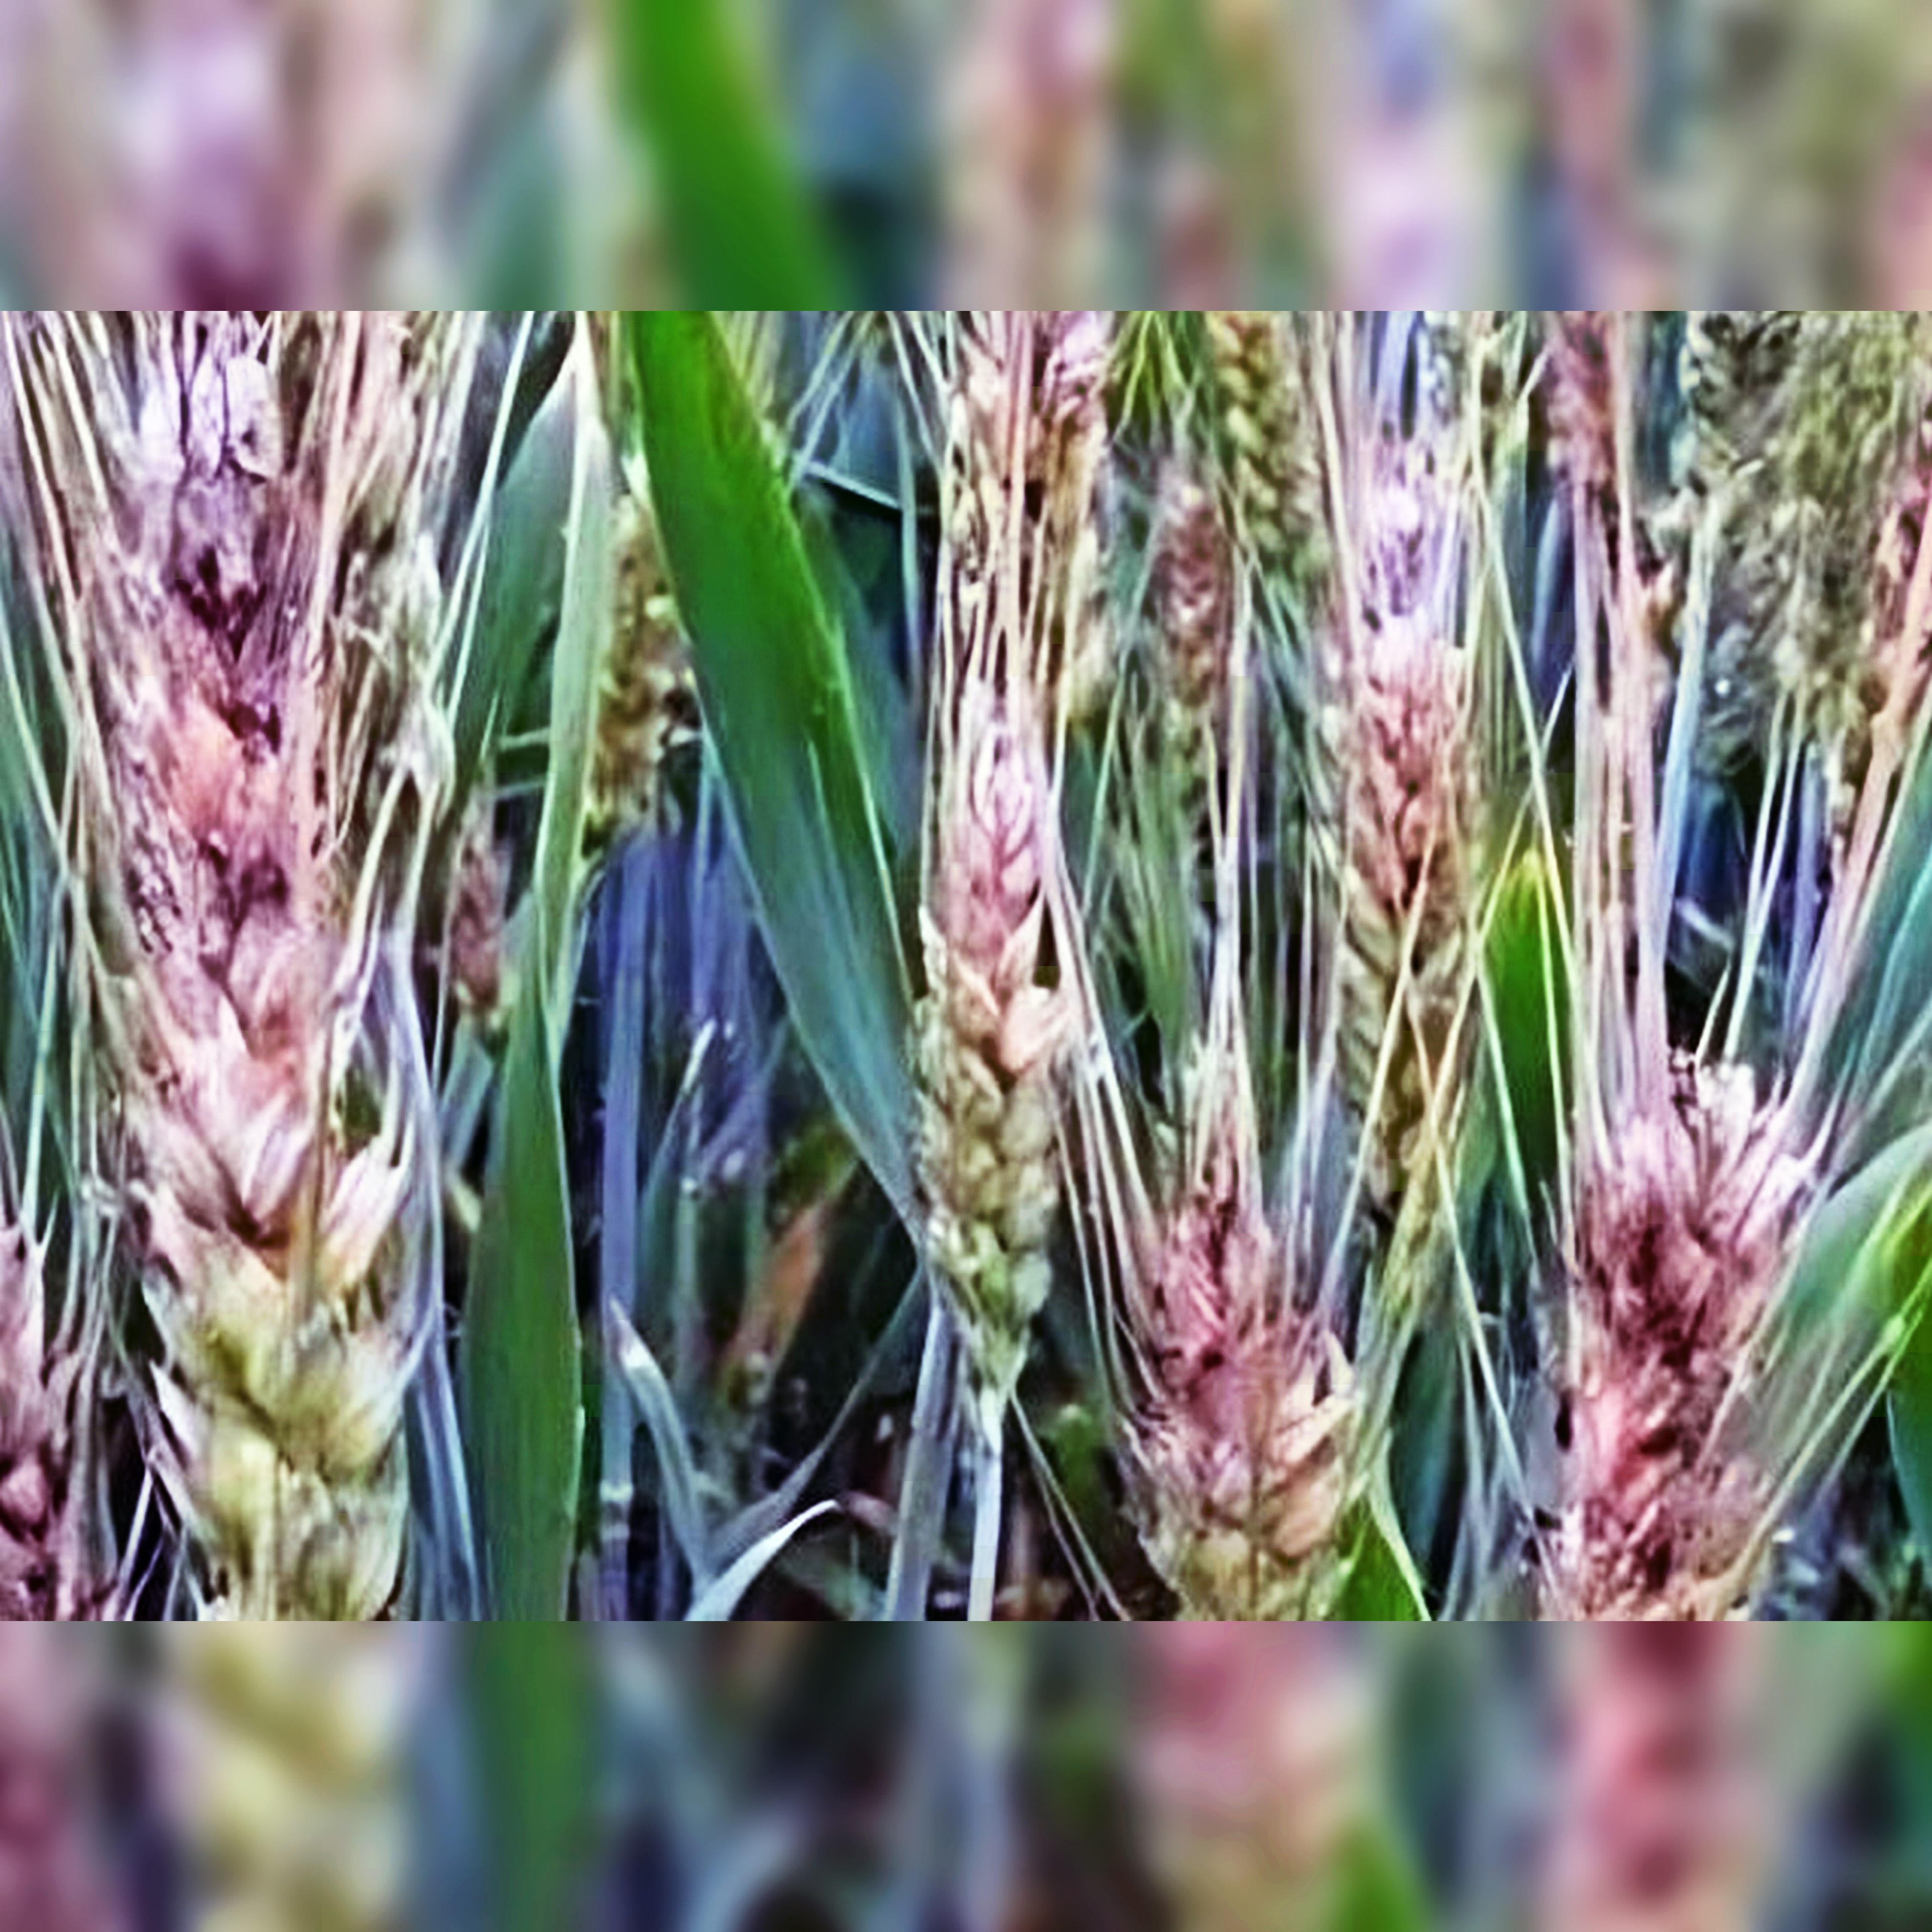Wheat scab: (1134, 513, 1870, 1564), (876, 706, 1081, 1421)
